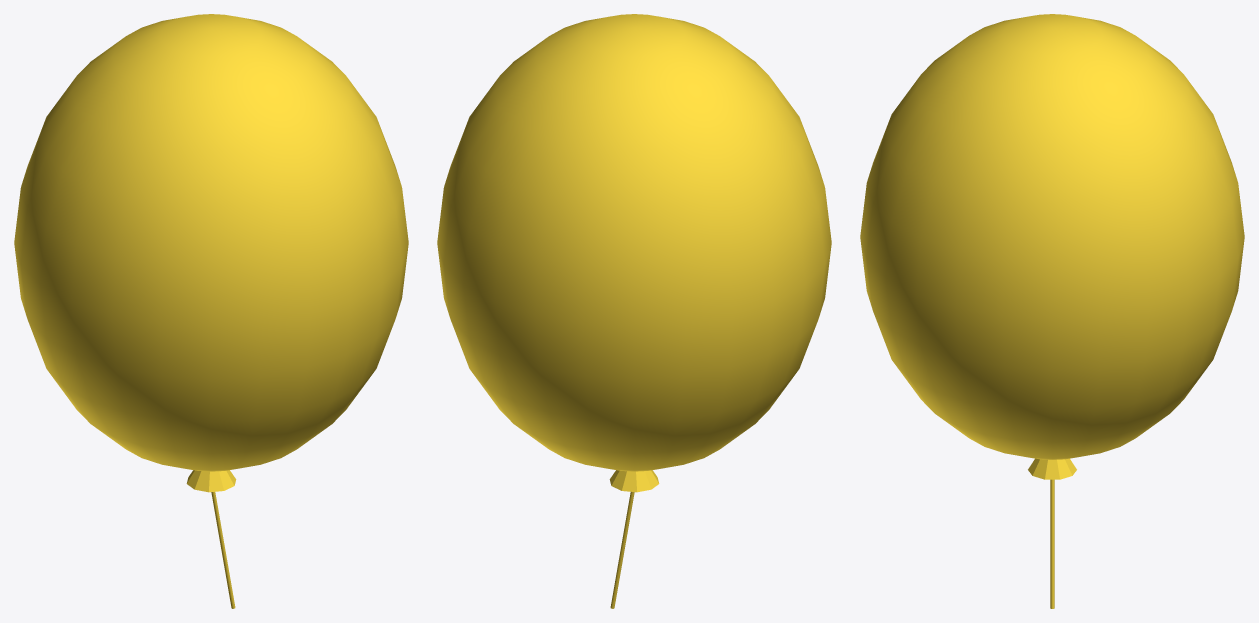
Rendered from balloon_yellow.glb.
3 renders of one model, left to right at view 1: azimuth 30°, elevation 25°; view 2: azimuth 150°, elevation 25°; view 3: azimuth 270°, elevation 25°, orthographic. The views are drawn at different scales.
Visible parts, largest first — view 1: SM_LatexBalloon; view 2: SM_LatexBalloon; view 3: SM_LatexBalloon.
Part boxes in pixels (<box>): SM_LatexBalloon: <box>14,14,408,608</box>; SM_LatexBalloon: <box>437,14,831,608</box>; SM_LatexBalloon: <box>860,14,1244,608</box>.
Bounding box in the file's own units: 0.28 × 0.4583 × 0.28.
